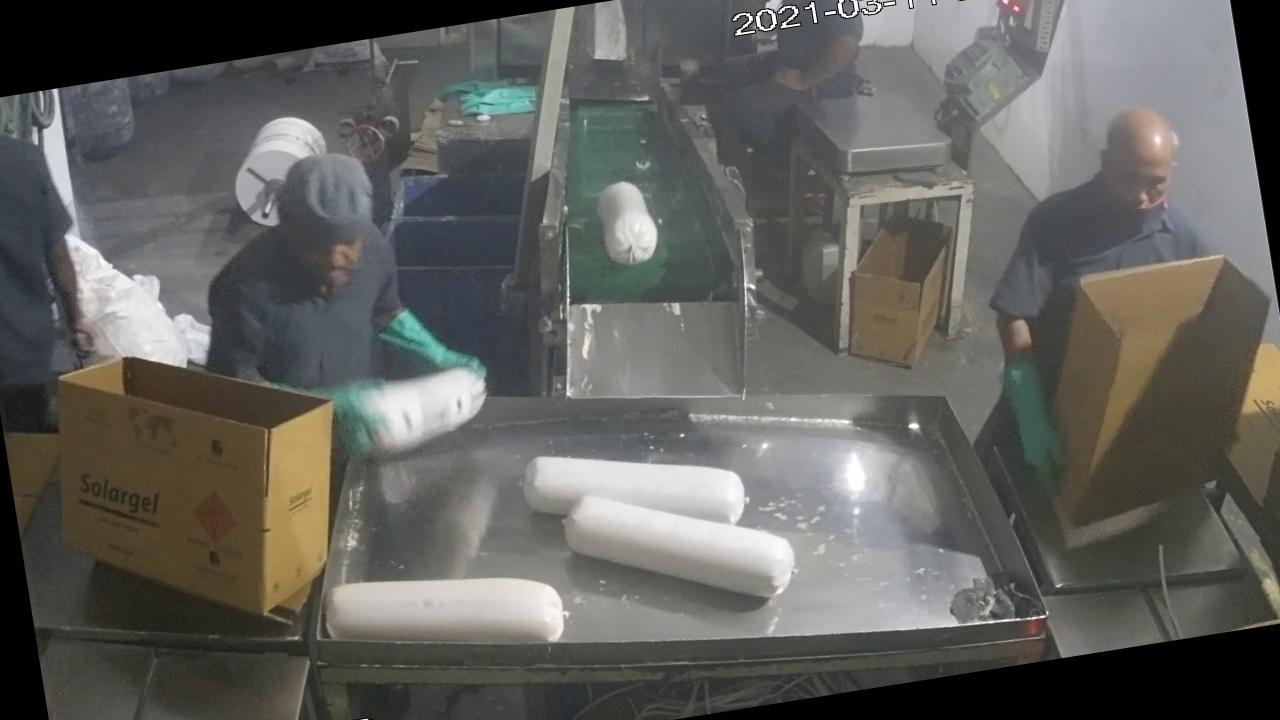Gloves: (990, 335, 1082, 514)
No-gloves: (764, 24, 888, 112), (43, 216, 111, 375)
